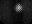person: (14, 3, 21, 12)
